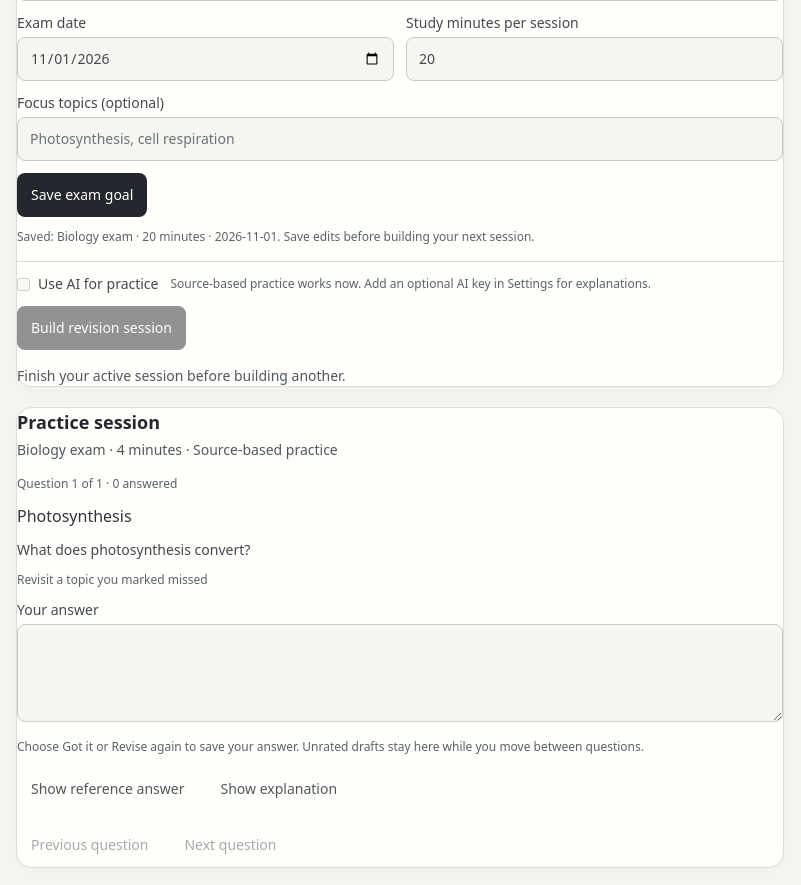
it: allows self-rating after requesting an explanation without an extra reveal
(page scrolled)
Click the button "Show explanation" at coordinates (279, 789), box [206,767,351,811]
(page scrolled)
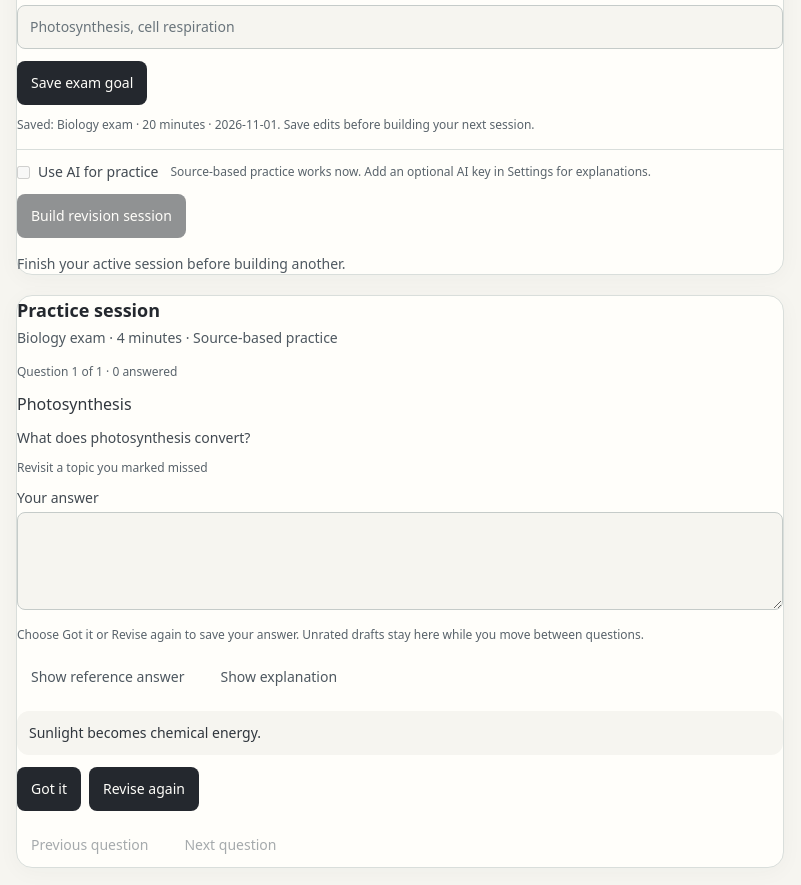
Result: the text "Sunlight becomes chemical energy." is shown at [29,723,261,742]
Result: the button "Revise again" is shown at [89,767,199,811]
